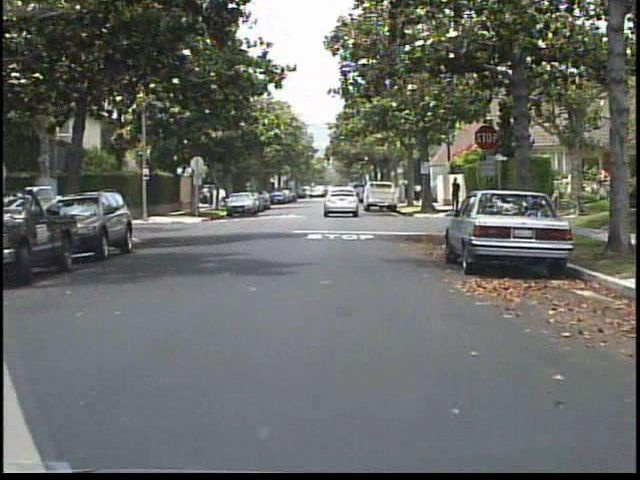person: (448, 176, 463, 207), (414, 178, 425, 205)
